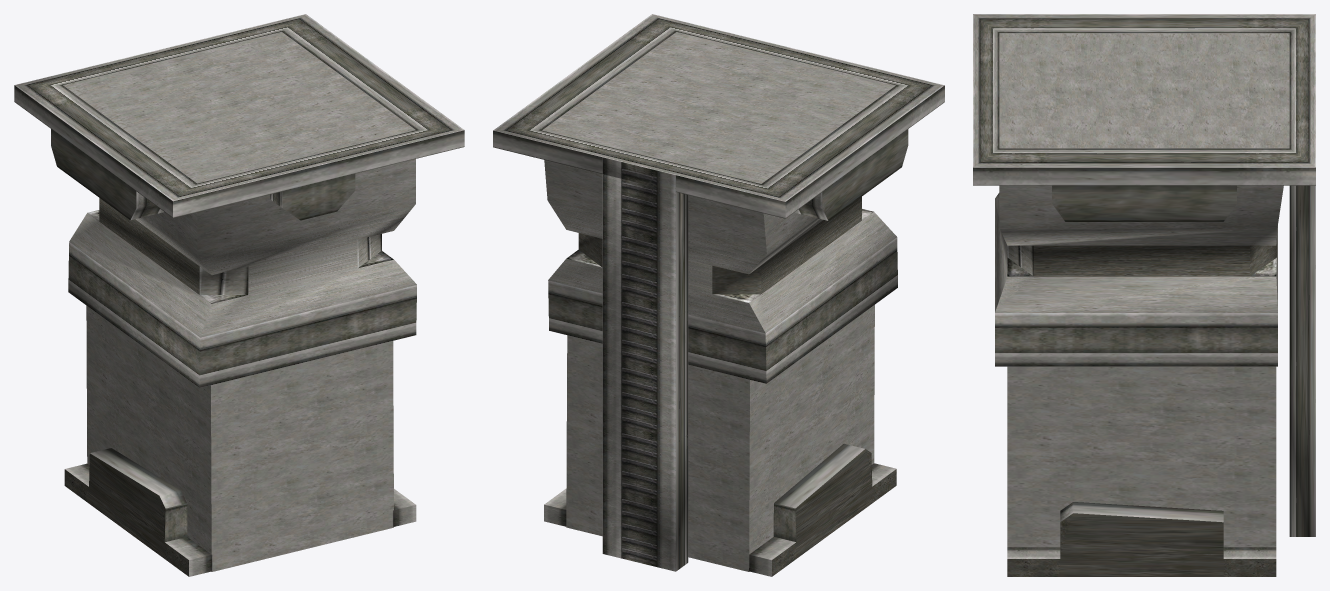
Rendered from DWARF_PALACE_FORGE_ROOM_PILLER.fbx.
3 renders of one model, left to right at view 1: azimuth 30°, elevation 25°; view 2: azimuth 150°, elevation 25°; view 3: azimuth 270°, elevation 25°, orthographic. The views are drawn at different scales.
Parts seen in each view (by area): view 1: DWARF_PALACE_FORGE_ROOM_PILLER; view 2: DWARF_PALACE_FORGE_ROOM_PILLER; view 3: DWARF_PALACE_FORGE_ROOM_PILLER.
Boxes of the visible parts, <box> form: DWARF_PALACE_FORGE_ROOM_PILLER: <box>14,14,464,576</box>; DWARF_PALACE_FORGE_ROOM_PILLER: <box>493,14,944,576</box>; DWARF_PALACE_FORGE_ROOM_PILLER: <box>973,14,1315,576</box>.
Bounding box in the file's own units: 55182 × 71559 × 52037.
Materials: 7 (7 with a texture image).
